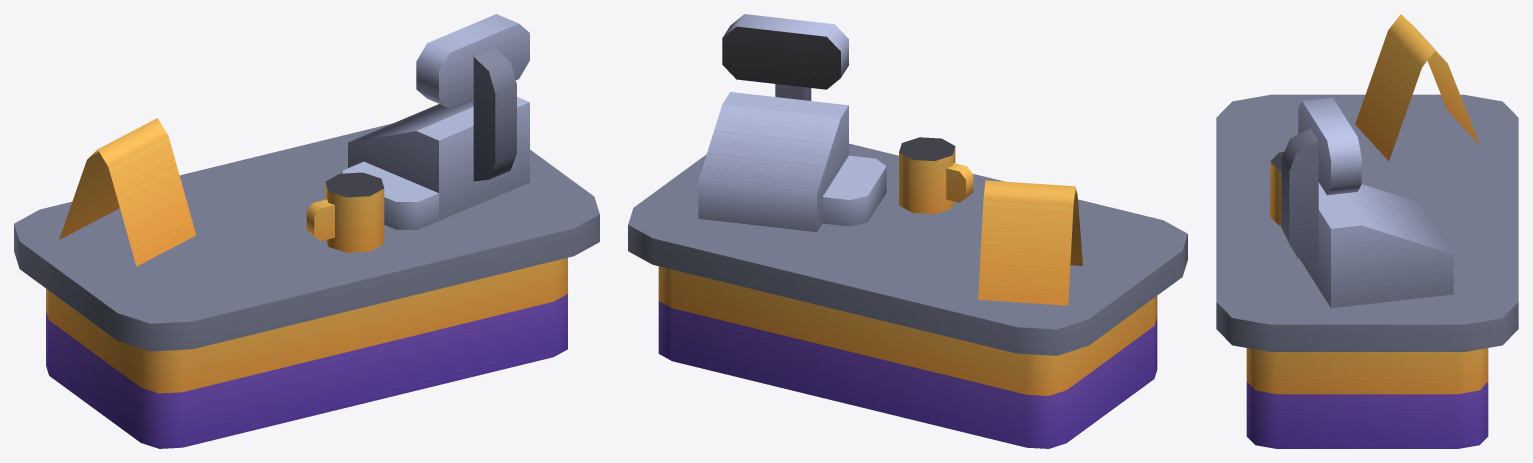
The model's file is cash-register.glb.
The picture shows the model from 3 angles, left to right: view 1: azimuth 30°, elevation 25°; view 2: azimuth 150°, elevation 25°; view 3: azimuth 270°, elevation 25°; orthographic projection. The views are drawn at different scales.
Parts seen in each view (by area): view 1: cash-register; view 2: cash-register; view 3: cash-register.
Boxes of the visible parts, x1=… form: cash-register: x1=14, y1=14, x2=599, y2=448; cash-register: x1=628, y1=14, x2=1187, y2=448; cash-register: x1=1216, y1=14, x2=1518, y2=448.
Bounding box in the file's own units: 2.16 × 1.31 × 1.2.
Materials: 1 (1 with a texture image).
